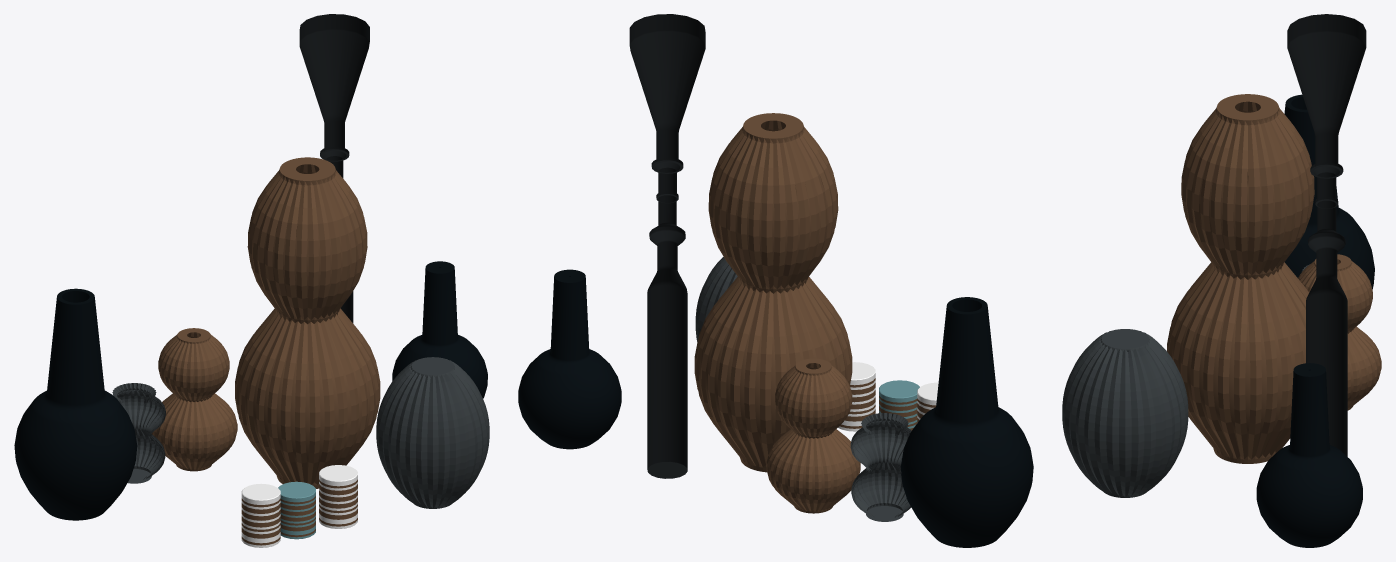
Rendered from 杂物摆件.FBX.
3 renders of one model, left to right at view 1: azimuth 30°, elevation 25°; view 2: azimuth 150°, elevation 25°; view 3: azimuth 270°, elevation 25°, orthographic. The views are drawn at different scales.
Parts seen in each view (by area): view 1: Line010, Line006, Line008, Line011, Line004, Line005, Line012, ChamferCyl004, ChamferCyl003, ChamferCyl005; view 2: Line010, Line006, Line004, Line005, Line011, Line012, ChamferCyl003, ChamferCyl005, Line008; view 3: Line010, Line008, Line004, Line005, Line011, Line006.
Part boxes in pixels (<box>): Line010: <box>235,157,380,488</box>; Line006: <box>14,288,137,520</box>; Line008: <box>376,357,489,508</box>; Line011: <box>151,328,237,471</box>; Line004: <box>299,14,369,323</box>; Line005: <box>392,261,487,398</box>; Line012: <box>112,383,165,483</box>; ChamferCyl004: <box>241,483,280,547</box>; ChamferCyl003: <box>319,465,357,528</box>; ChamferCyl005: <box>278,481,315,539</box>; Line010: <box>694,113,852,472</box>; Line006: <box>900,297,1033,547</box>; Line004: <box>629,14,705,478</box>; Line005: <box>518,269,621,449</box>; Line011: <box>766,358,860,513</box>; Line012: <box>850,413,911,521</box>; ChamferCyl003: <box>838,362,875,431</box>; ChamferCyl005: <box>879,380,919,430</box>; Line008: <box>695,257,737,341</box>; Line010: <box>1167,94,1314,463</box>; Line008: <box>1062,329,1188,497</box>; Line004: <box>1287,14,1366,456</box>; Line005: <box>1256,363,1362,547</box>; Line011: <box>1298,254,1381,410</box>; Line006: <box>1284,94,1374,289</box>.
Bounding box in the file's own units: 889 × 751 × 479.
